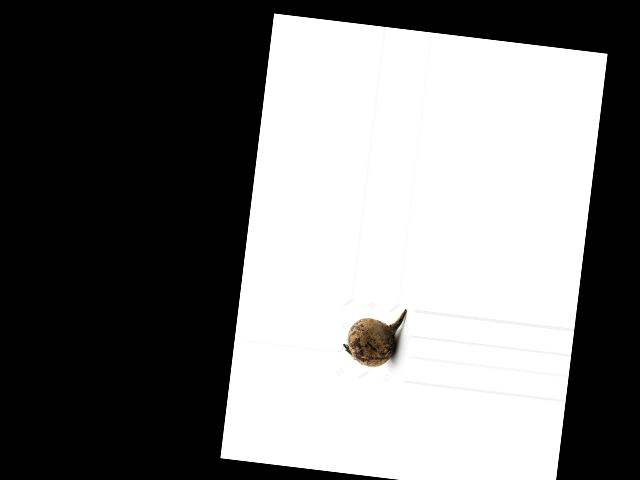beet: (341, 302, 406, 370)
